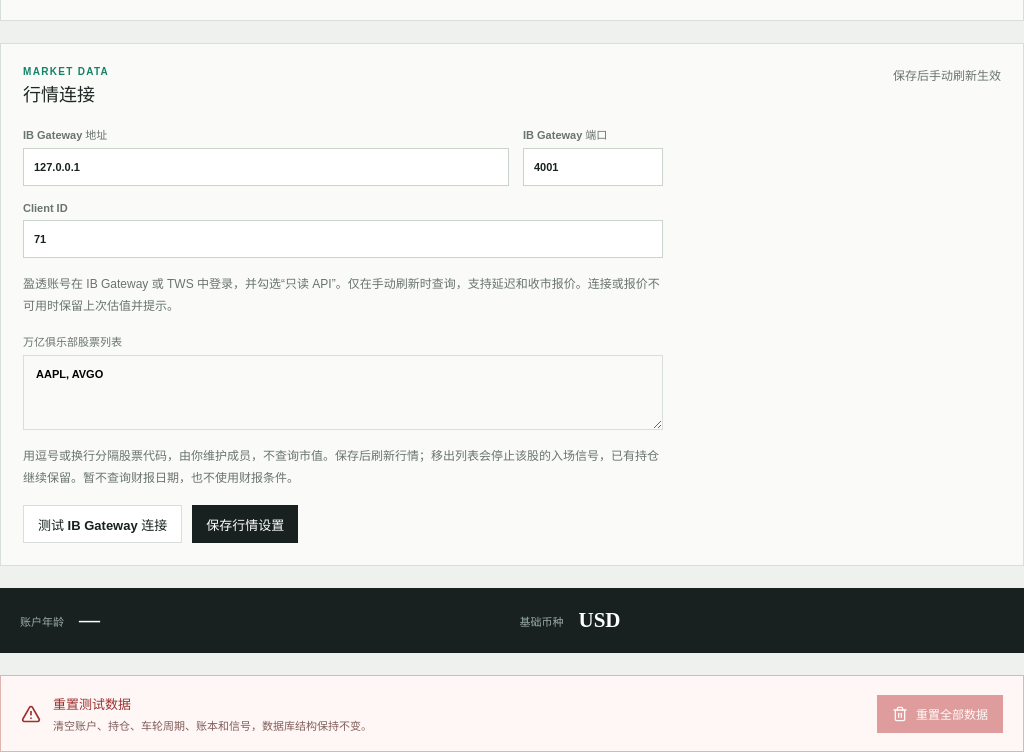
Test: market settings › tests an unsaved connection and reports an offline IB Gateway without changing the source
(page scrolled)
What coordinates should you click on to do the following:
click the button "测试 IB Gateway 连接"
I would click on:
 (103, 524)
Its box is [23,505,182,543].
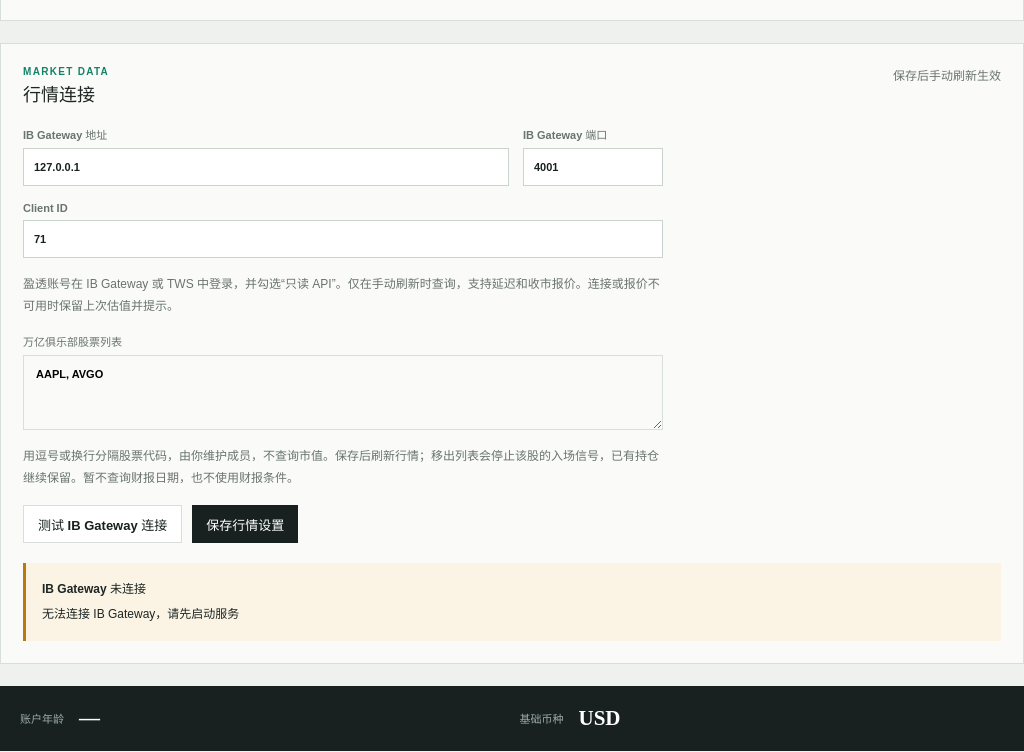
Now the text "无法连接 IB Gateway，请先启动服务" is shown, box [42,607,239,621]
